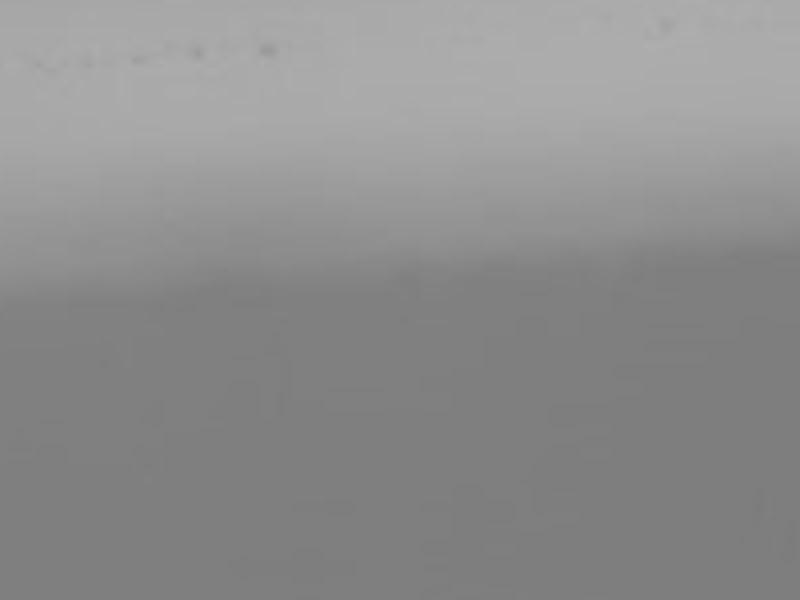defect: (646, 12, 678, 37), (254, 37, 281, 63), (36, 58, 69, 78), (187, 41, 206, 63), (127, 49, 149, 65), (78, 52, 96, 68)
